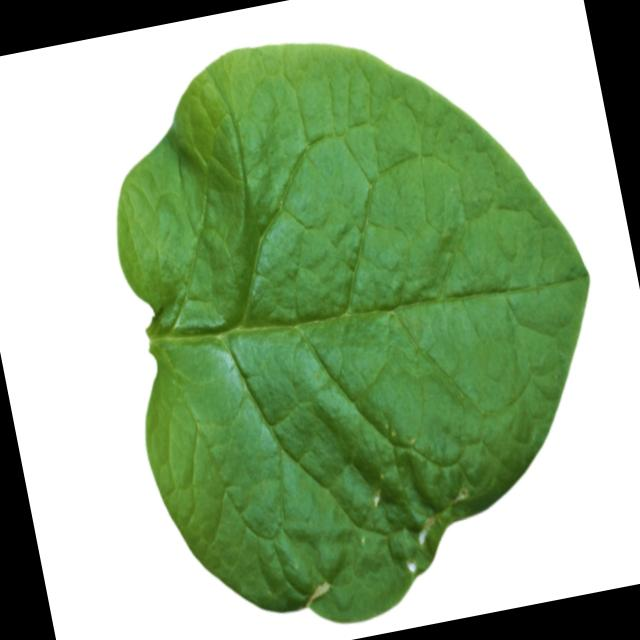Medicinal-Basale: (73, 0, 640, 640)
